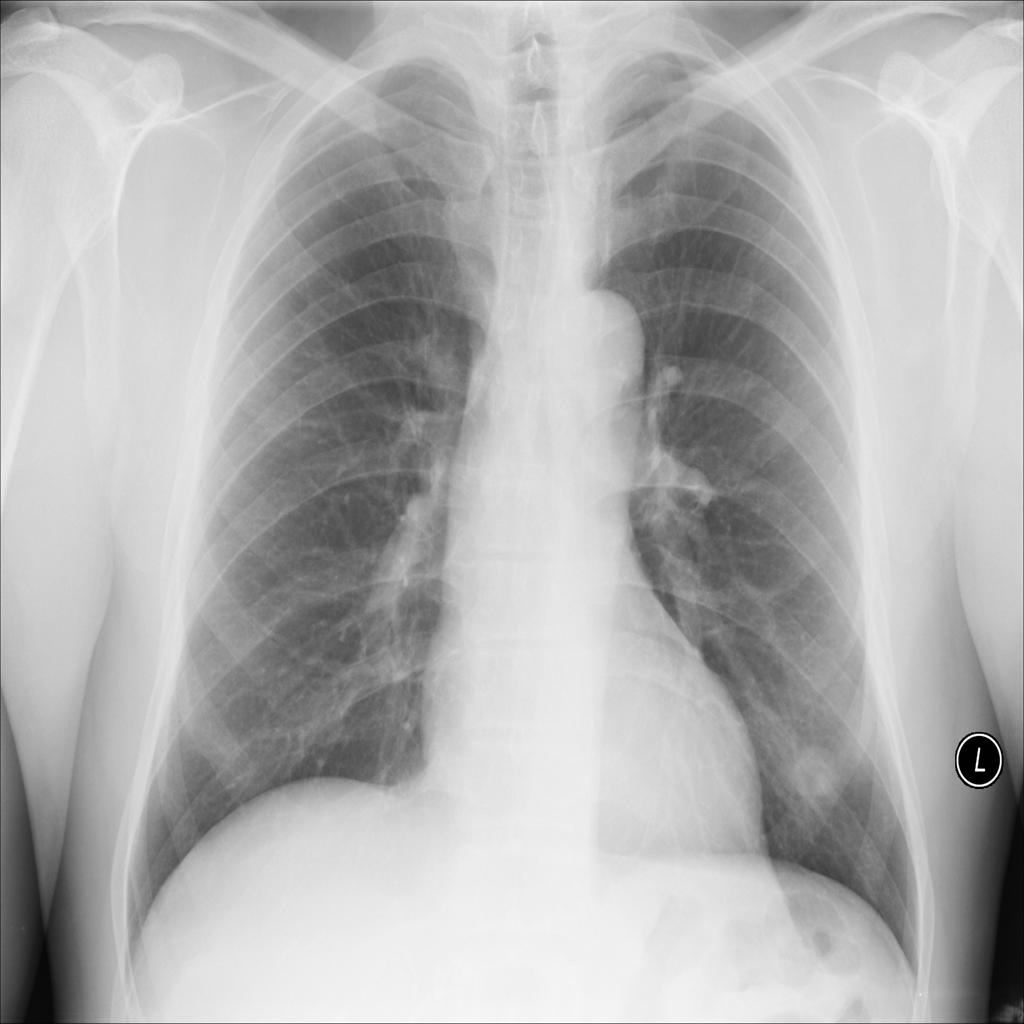nodule: (758, 719, 867, 825)
